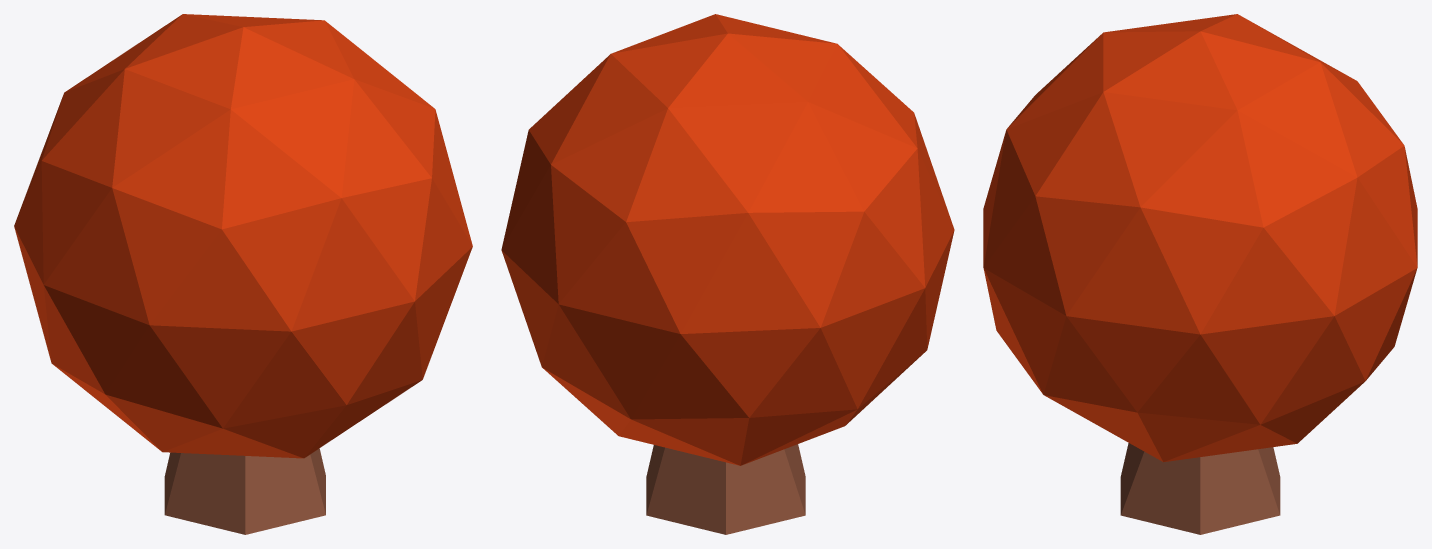
Rendered from Bush_2_summer_red.fbx.
The picture shows the model from 3 angles, left to right: view 1: azimuth 30°, elevation 25°; view 2: azimuth 150°, elevation 25°; view 3: azimuth 270°, elevation 25°; orthographic projection.
Visible parts, largest first — view 1: Bush_2_summer_red; view 2: Bush_2_summer_red; view 3: Bush_2_summer_red.
Boxes of the visible parts, box(x1,y1,x2,y2) form: Bush_2_summer_red: box(14, 14, 472, 534); Bush_2_summer_red: box(501, 14, 954, 534); Bush_2_summer_red: box(983, 14, 1417, 534).
Bounding box in the file's own units: 35.19 × 39.46 × 33.47.
